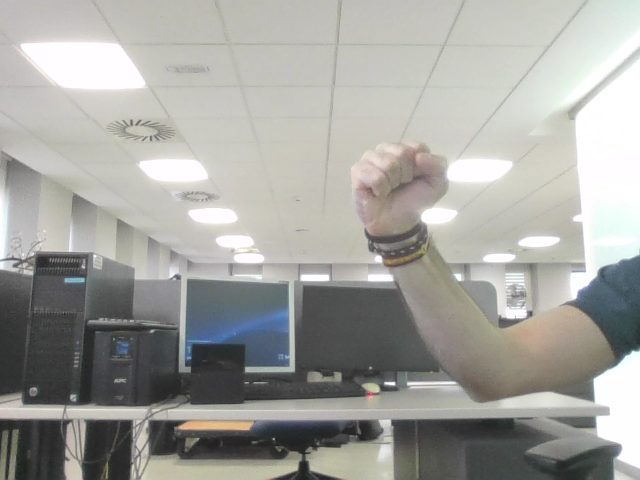Puño: (360, 150, 429, 201)
